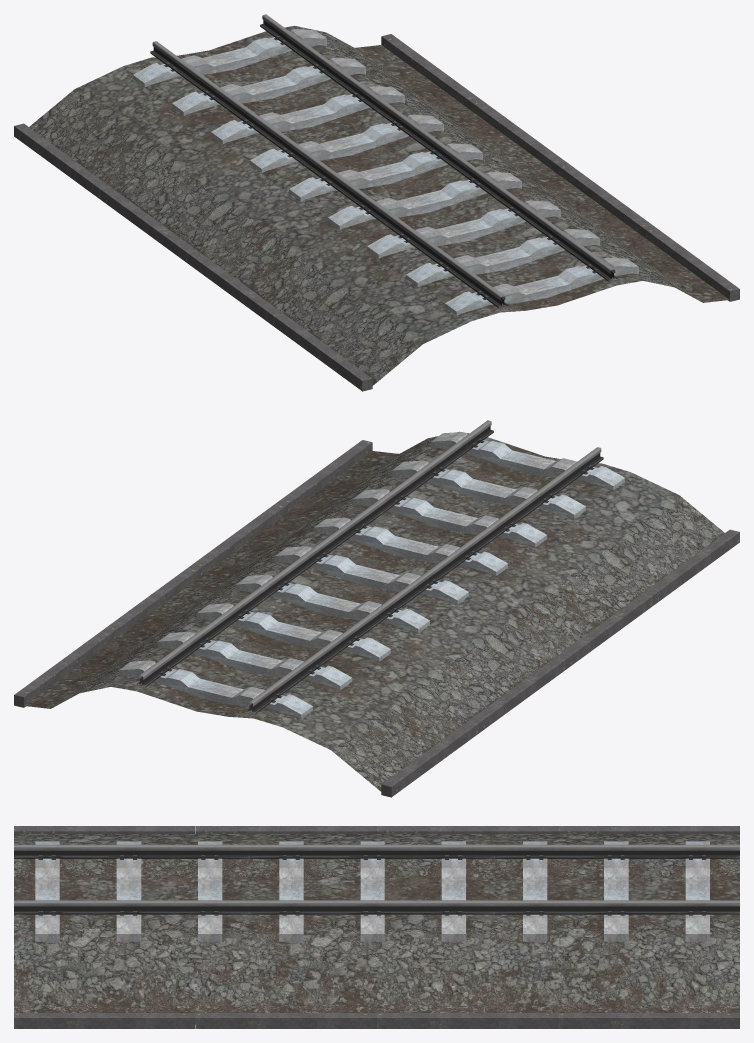
3 renders of one model, top to bottom at view 1: azimuth 30°, elevation 25°; view 2: azimuth 150°, elevation 25°; view 3: azimuth 270°, elevation 25°, orthographic. The views are drawn at different scales.
Visible parts, largest first — view 1: Box020_Railway_ground_0, Box020_Railway_high_0, Box020_Rail_block_0, Box020_Rail_low_0, Box020_Rail_mount_0; view 2: Box020_Railway_ground_0, Box020_Railway_high_0, Box020_Rail_block_0, Box020_Rail_low_0, Box020_Rail_mount_0; view 3: Box020_Railway_ground_0, Box020_Rail_low_0, Box020_Rail_block_0, Box020_Railway_high_0, Box020_Rail_mount_0.
Part boxes in pixels (bbox=[...]): Box020_Railway_ground_0: bbox=[29, 25, 729, 385]; Box020_Railway_high_0: bbox=[133, 29, 638, 315]; Box020_Rail_block_0: bbox=[14, 34, 739, 391]; Box020_Rail_low_0: bbox=[150, 14, 617, 307]; Box020_Rail_mount_0: bbox=[164, 35, 598, 299]; Box020_Railway_ground_0: bbox=[24, 431, 724, 791]; Box020_Railway_high_0: bbox=[119, 432, 624, 718]; Box020_Rail_block_0: bbox=[14, 440, 739, 797]; Box020_Rail_low_0: bbox=[136, 420, 603, 713]; Box020_Rail_mount_0: bbox=[160, 438, 594, 702]; Box020_Railway_ground_0: bbox=[14, 834, 739, 1024]; Box020_Rail_low_0: bbox=[14, 844, 739, 914]; Box020_Rail_block_0: bbox=[14, 826, 739, 1028]; Box020_Railway_high_0: bbox=[35, 841, 709, 941]; Box020_Rail_mount_0: bbox=[38, 855, 705, 915].
Bounding box in the file's own units: 5.59 × 0.8587 × 8.93.
5 materials, 5 textured.
